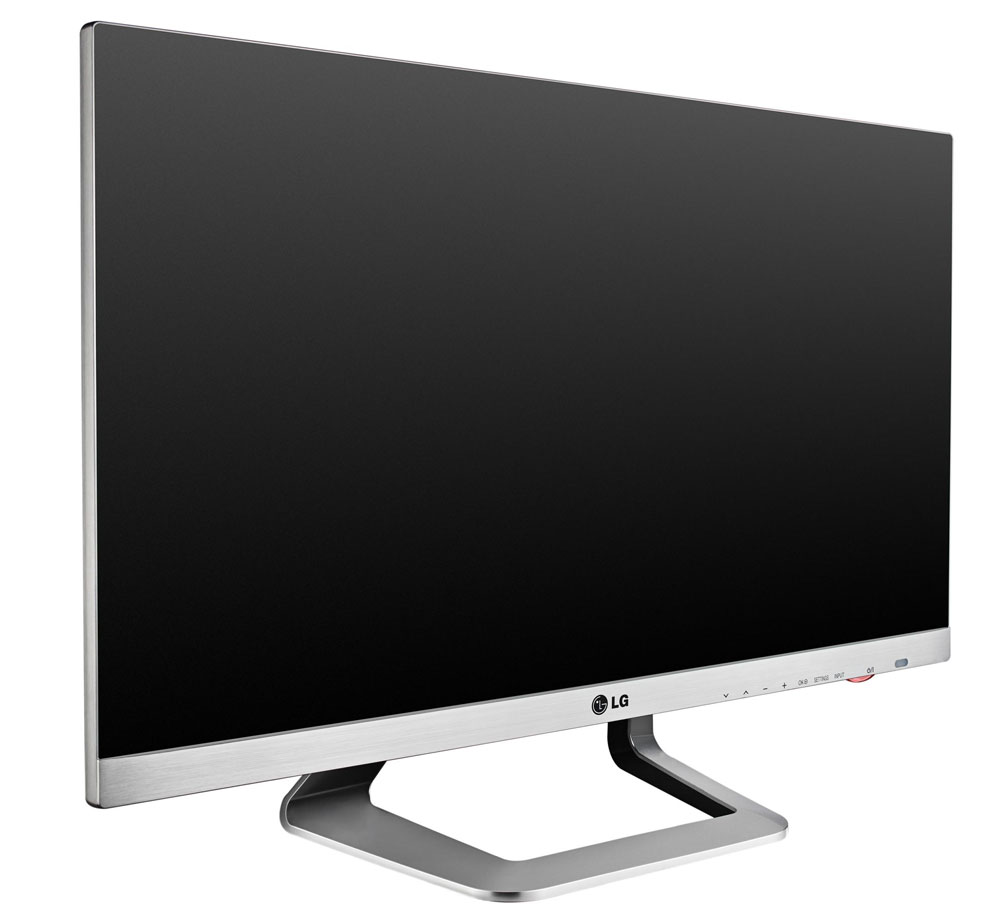tvmonitor: (75, 24, 957, 909)
